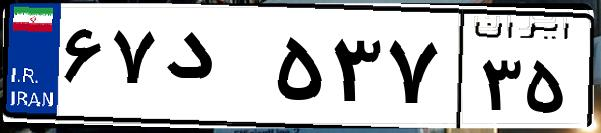3: (330, 28, 385, 110), (475, 38, 525, 113)
5: (270, 28, 330, 110), (525, 38, 570, 115)
6: (57, 26, 110, 100)
7: (385, 28, 445, 110), (110, 28, 158, 98)
د: (158, 20, 270, 120)
